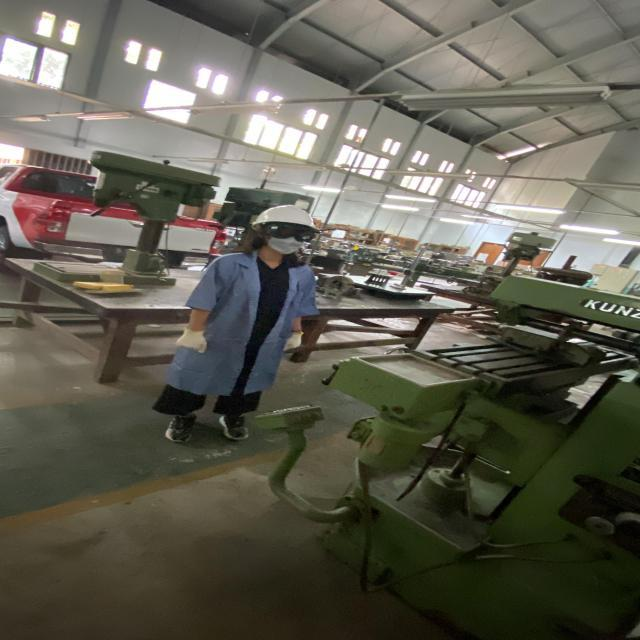glasses: (262, 224, 322, 241)
